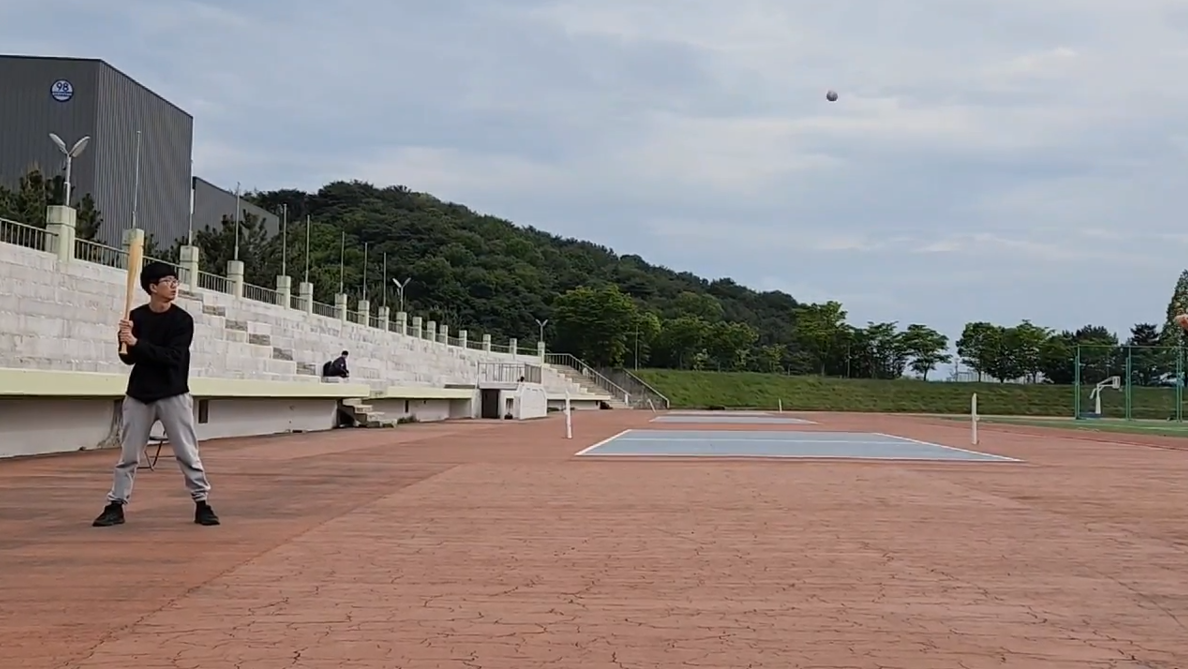ball: (824, 90, 836, 101)
